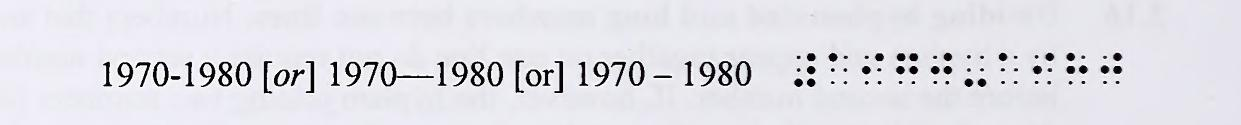digit_0: (1099, 51, 1124, 88), (931, 51, 954, 89)
digit_1: (997, 51, 1021, 87), (827, 51, 850, 87)
digit_7: (896, 50, 919, 89)
digit_8: (1067, 51, 1088, 87)
digit_9: (861, 50, 884, 87), (1033, 52, 1054, 89)
number_sign: (795, 51, 816, 89)
